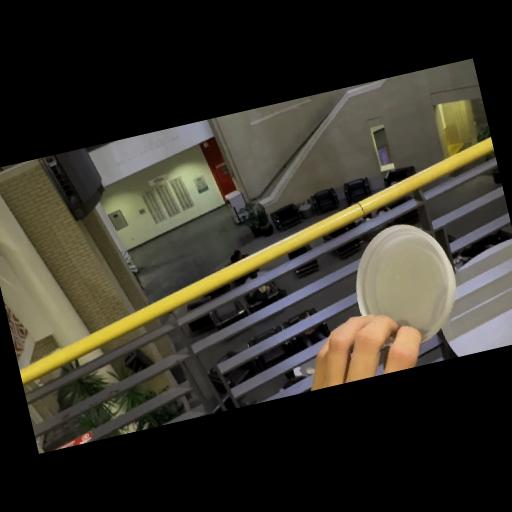lp_cup_lids: (342, 214, 468, 356)
